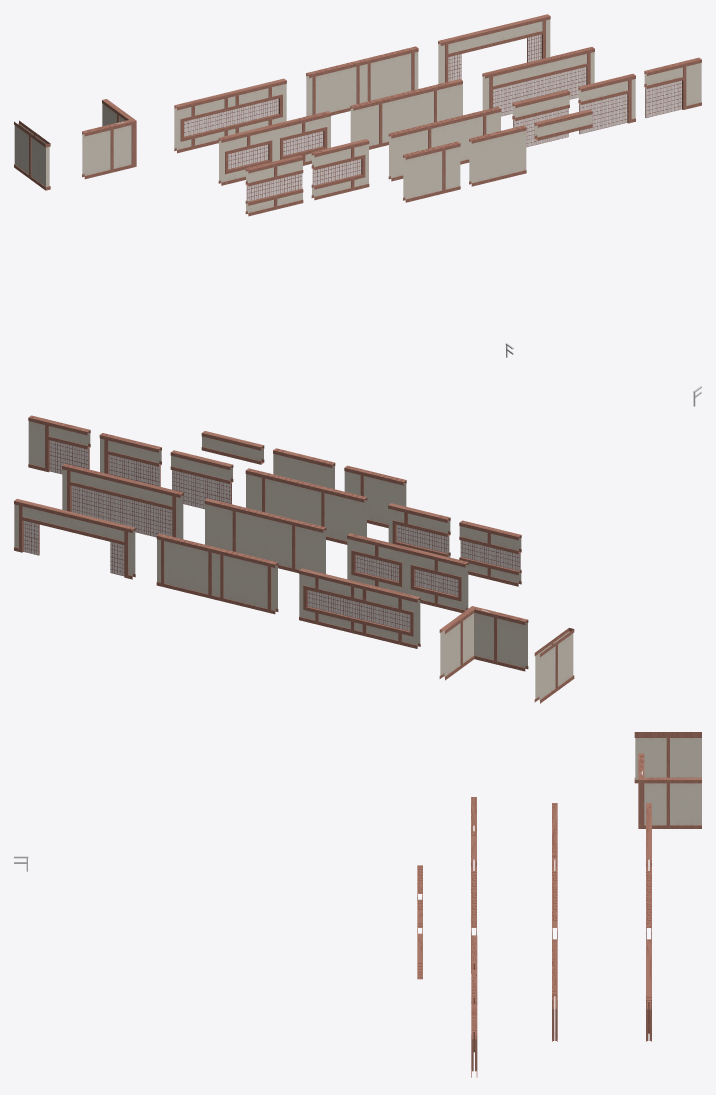
Rendered from Set_paredes_low.fbx.
3 views of the same model, one above another, from view 1: azimuth 30°, elevation 25°; view 2: azimuth 150°, elevation 25°; view 3: azimuth 270°, elevation 25° (orthographic). The views are drawn at different scales.
Parts seen in each view (by area): view 1: x4_Ventana_x10_v1, x4_Base_x10_v3, x4_Ventana_x10_v2, x4_Base_x10_v2, x4_Puerta_Cerrada, x4_Base_x10_v1, x4_Puerta_Abierta, x4_Esquina, x4_Base_x5_Soporte, x4_Base_x5, x4_Ventana_Centro, x4_Ventana_Esquina (+5 smaller); view 2: x4_Ventana_x10_v1, x4_Base_x10_v3, x4_Ventana_x10_v2, x4_Puerta_Cerrada, x4_Base_x10_v2, x4_Base_x10_v1, x4_Esquina, x4_Puerta_Abierta, x4_Ventana_Centro, x4_Pared_Puerta_v2, x4_Pared_Puerta_Centro, x4_Ventana_Esquina (+5 smaller); view 3: x4_Esquina, x4_Lateral, x4_Puerta_Abierta, x4_Puerta_Cerrada.
Boxes of the visible parts, left/top/right/bottom form: x4_Ventana_x10_v1: left=174, top=78, right=286, bottom=153; x4_Base_x10_v3: left=306, top=46, right=418, bottom=116; x4_Ventana_x10_v2: left=218, top=111, right=331, bottom=185; x4_Base_x10_v2: left=350, top=79, right=462, bottom=149; x4_Puerta_Cerrada: left=482, top=47, right=594, bottom=116; x4_Base_x10_v1: left=388, top=106, right=501, bottom=181; x4_Puerta_Abierta: left=438, top=14, right=550, bottom=84; x4_Esquina: left=82, top=99, right=136, bottom=179; x4_Base_x5_Soporte: left=403, top=141, right=460, bottom=202; x4_Base_x5: left=469, top=125, right=526, bottom=186; x4_Ventana_Centro: left=245, top=155, right=303, bottom=216; x4_Ventana_Esquina: left=311, top=139, right=369, bottom=200; x4_Ventana_x10_v1: left=299, top=568, right=420, bottom=648; x4_Base_x10_v3: left=156, top=533, right=278, bottom=614; x4_Ventana_x10_v2: left=347, top=533, right=468, bottom=612; x4_Puerta_Cerrada: left=62, top=463, right=183, bottom=539; x4_Base_x10_v2: left=204, top=498, right=326, bottom=573; x4_Base_x10_v1: left=245, top=468, right=367, bottom=544; x4_Esquina: left=439, top=606, right=528, bottom=680; x4_Puerta_Abierta: left=14, top=499, right=135, bottom=579; x4_Ventana_Centro: left=459, top=520, right=521, bottom=586; x4_Pared_Puerta_v2: left=28, top=415, right=90, bottom=474; x4_Pared_Puerta_Centro: left=170, top=450, right=233, bottom=509; x4_Ventana_Esquina: left=388, top=503, right=450, bottom=557; x4_Esquina: left=638, top=753, right=701, bottom=828; x4_Lateral: left=634, top=732, right=701, bottom=783; x4_Puerta_Abierta: left=646, top=939, right=651, bottom=1041; x4_Puerta_Cerrada: left=552, top=939, right=557, bottom=1041.
Size of the model in its own units: 5272 by 400 by 5109.
3 materials, 3 textured.
